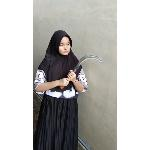Celurit: (60, 54, 106, 92)
